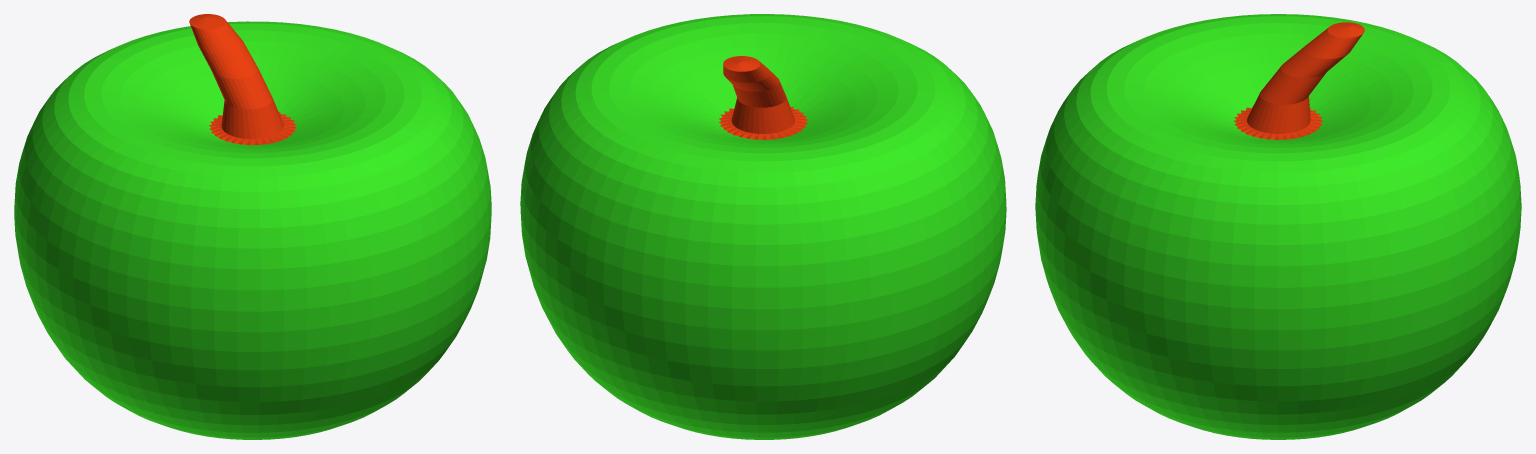
The model's file is Apple.fbx.
3 views of the same model, side by side, from view 1: azimuth 30°, elevation 25°; view 2: azimuth 150°, elevation 25°; view 3: azimuth 270°, elevation 25° (orthographic).
Parts seen in each view (by area): view 1: Sphere; view 2: Sphere; view 3: Sphere.
Part boxes in pixels (<box>): Sphere: <box>14,14,491,439</box>; Sphere: <box>520,14,1006,439</box>; Sphere: <box>1035,14,1521,439</box>.
Size of the model in its own units: 196 by 166 by 196.
